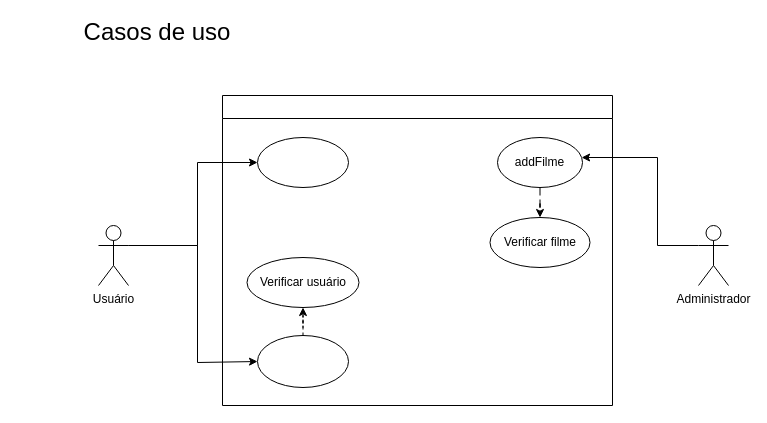
This 767x423 diagram has some shape labels left out. The shapes that lost their labels are listed below. From the top down, each one's box as (x1, y1, x2, y2) in pixels, then its label:
(256, 136, 348, 188): buscarFilme
(222, 94, 612, 406): Sistema de Streaming
(256, 334, 348, 388): addUsuario
